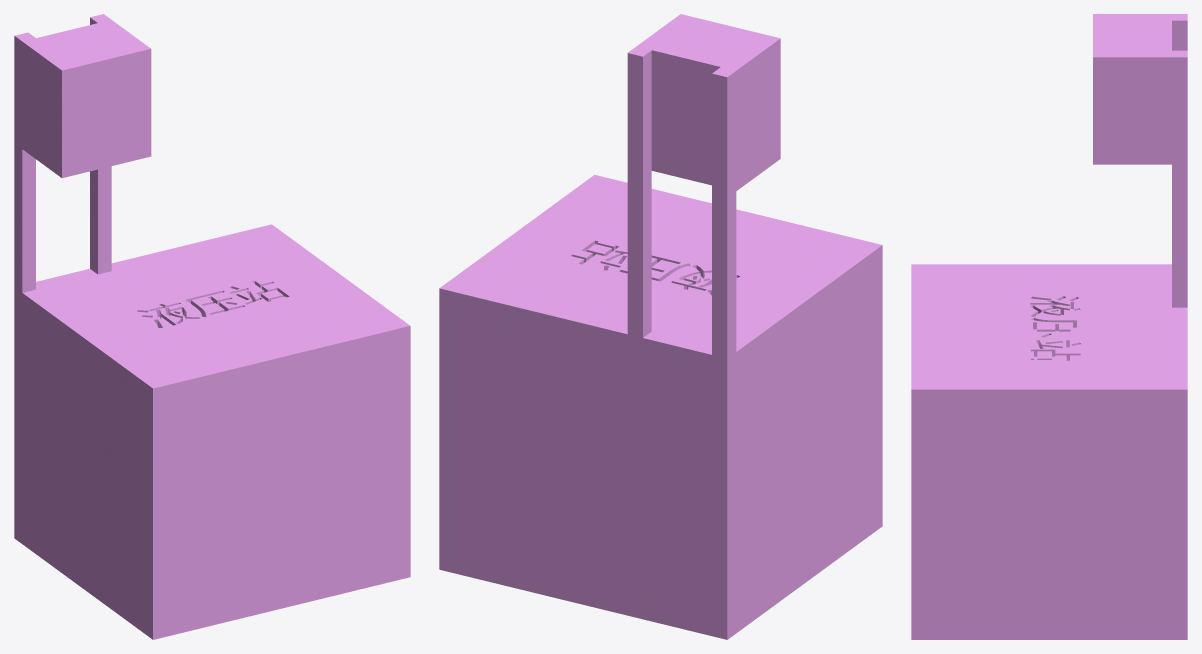
File: 液压站.fbx
3 views of the same model, side by side, from view 1: azimuth 30°, elevation 25°; view 2: azimuth 150°, elevation 25°; view 3: azimuth 270°, elevation 25° (orthographic). The views are drawn at different scales.
Bounding box in the file's own units: 0.000466 × 0.00087 × 0.000435.
